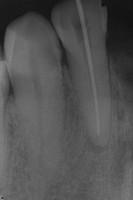Furcation Involvement: (84, 136, 108, 154)
